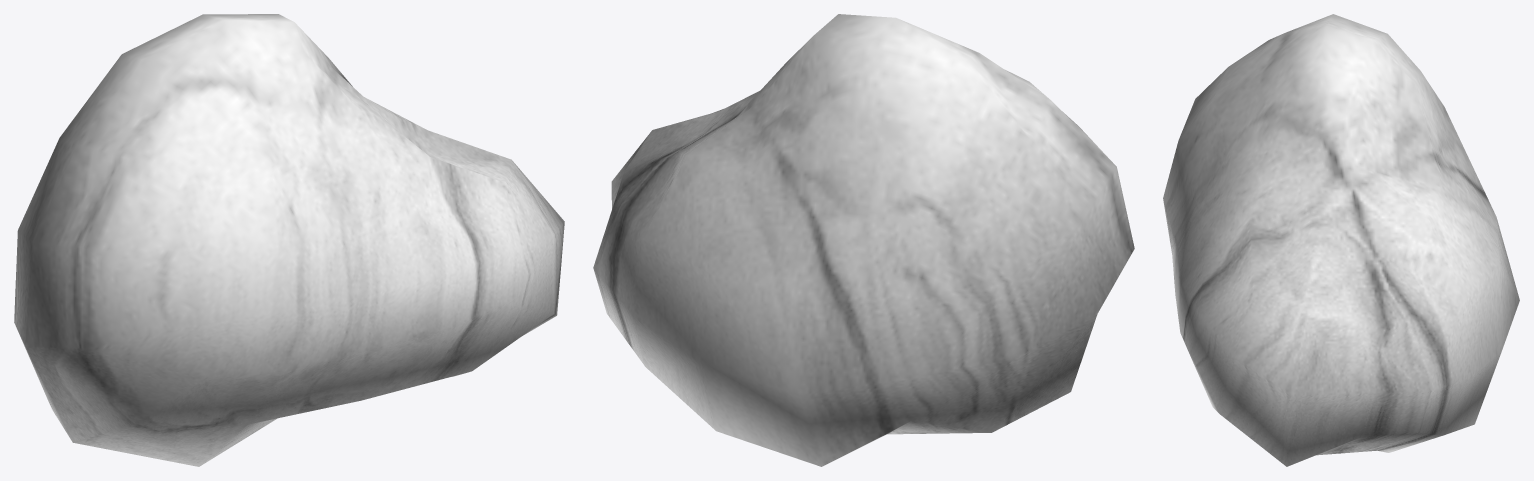
Rendered from Rock-10.fbx.
The picture shows the model from 3 angles, left to right: view 1: azimuth 30°, elevation 25°; view 2: azimuth 150°, elevation 25°; view 3: azimuth 270°, elevation 25°; orthographic projection. The views are drawn at different scales.
Parts seen in each view (by area): view 1: Cube.007; view 2: Cube.007; view 3: Cube.007.
Boxes of the visible parts, bbox=[...] form: Cube.007: bbox=[14, 14, 564, 466]; Cube.007: bbox=[593, 14, 1134, 466]; Cube.007: bbox=[1163, 14, 1519, 466].
Bounding box in the file's own units: 106 × 84.34 × 70.9.
